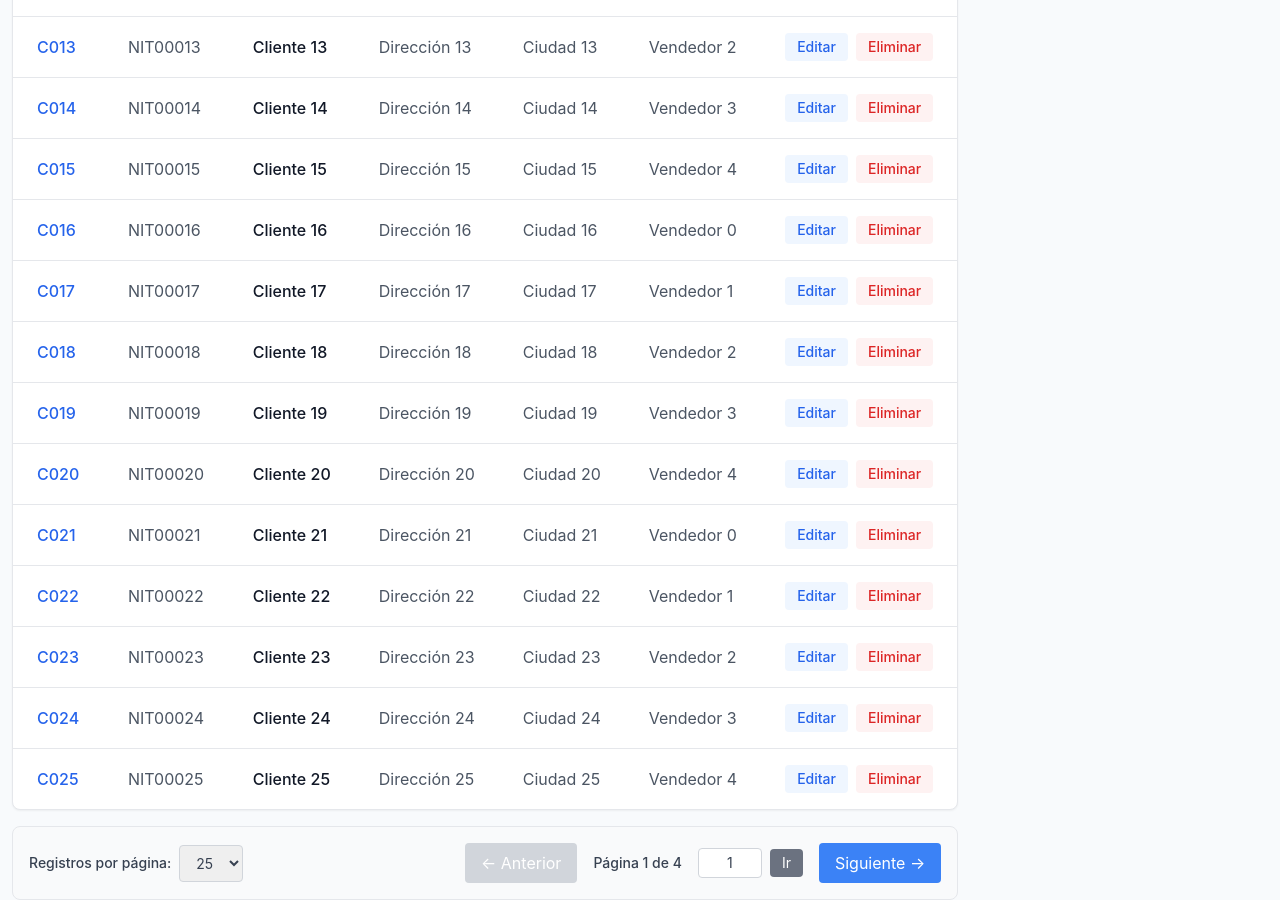
ClientsModule Unit Tests › Pagination › should navigate to previous page
(page scrolled)
Click the button "Siguiente →" at (880, 863), box [819, 843, 941, 883]
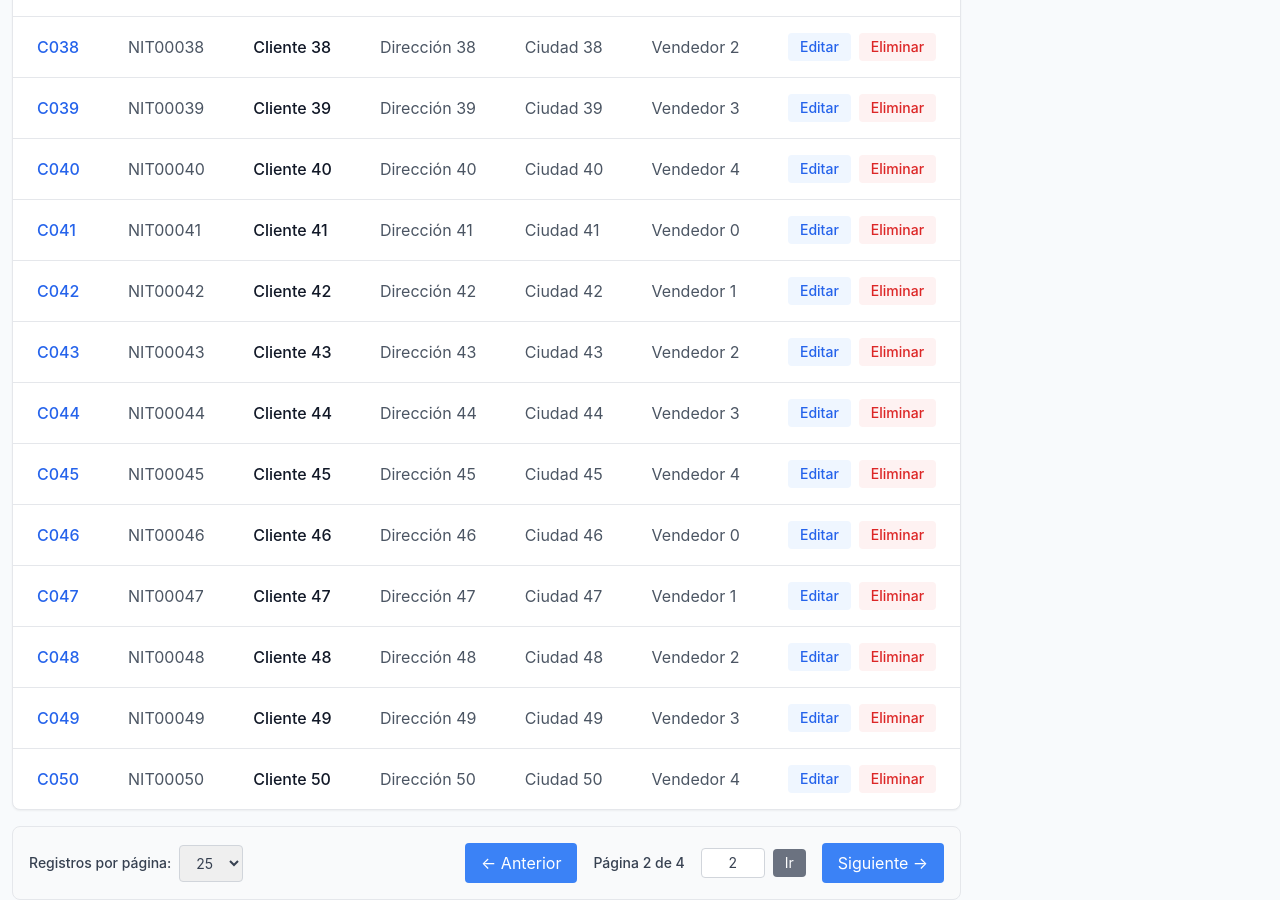
Click the button "← Anterior" at (521, 863), box [465, 843, 577, 883]
(page scrolled)
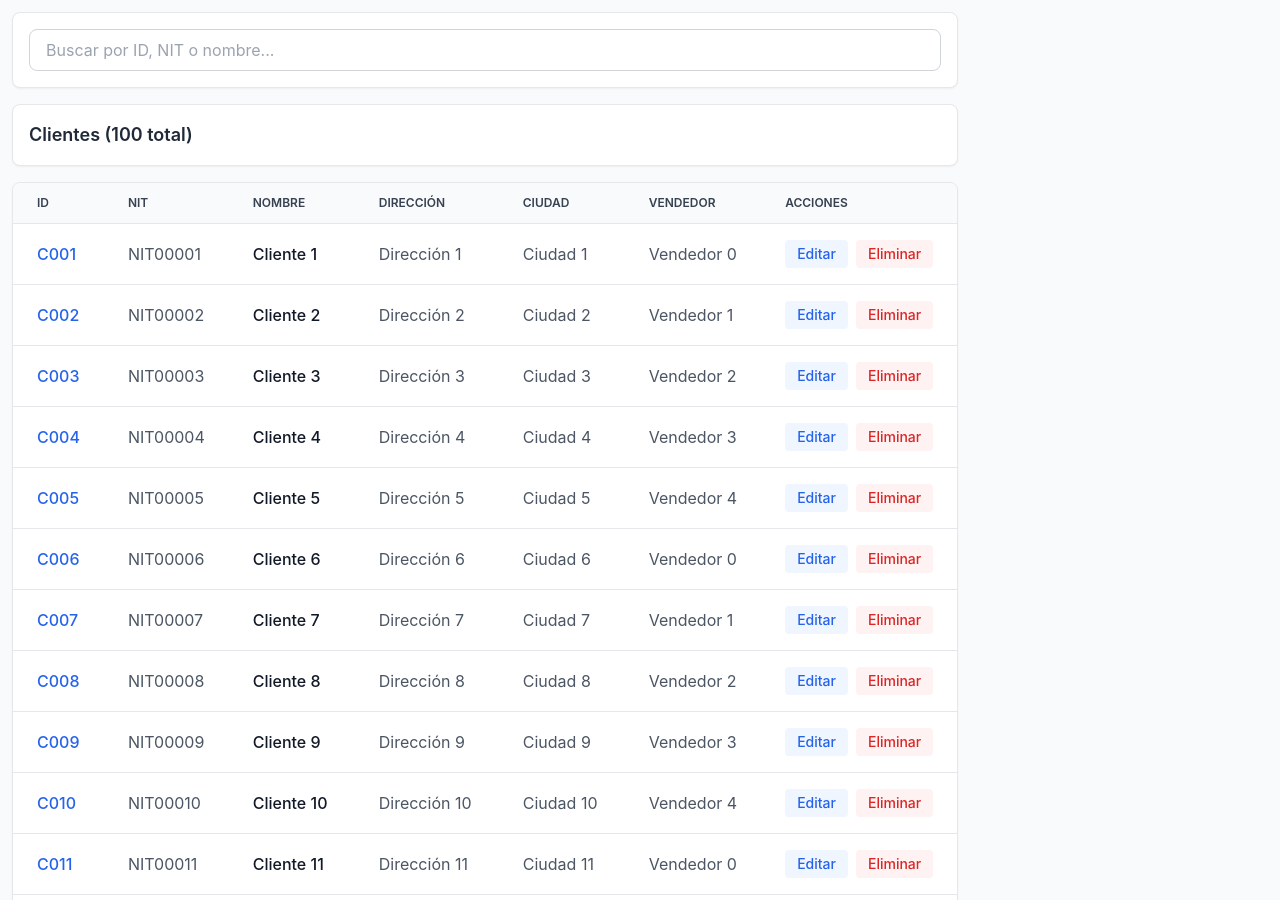
Now the text "Cliente 1" is shown, box [229, 224, 355, 284]
